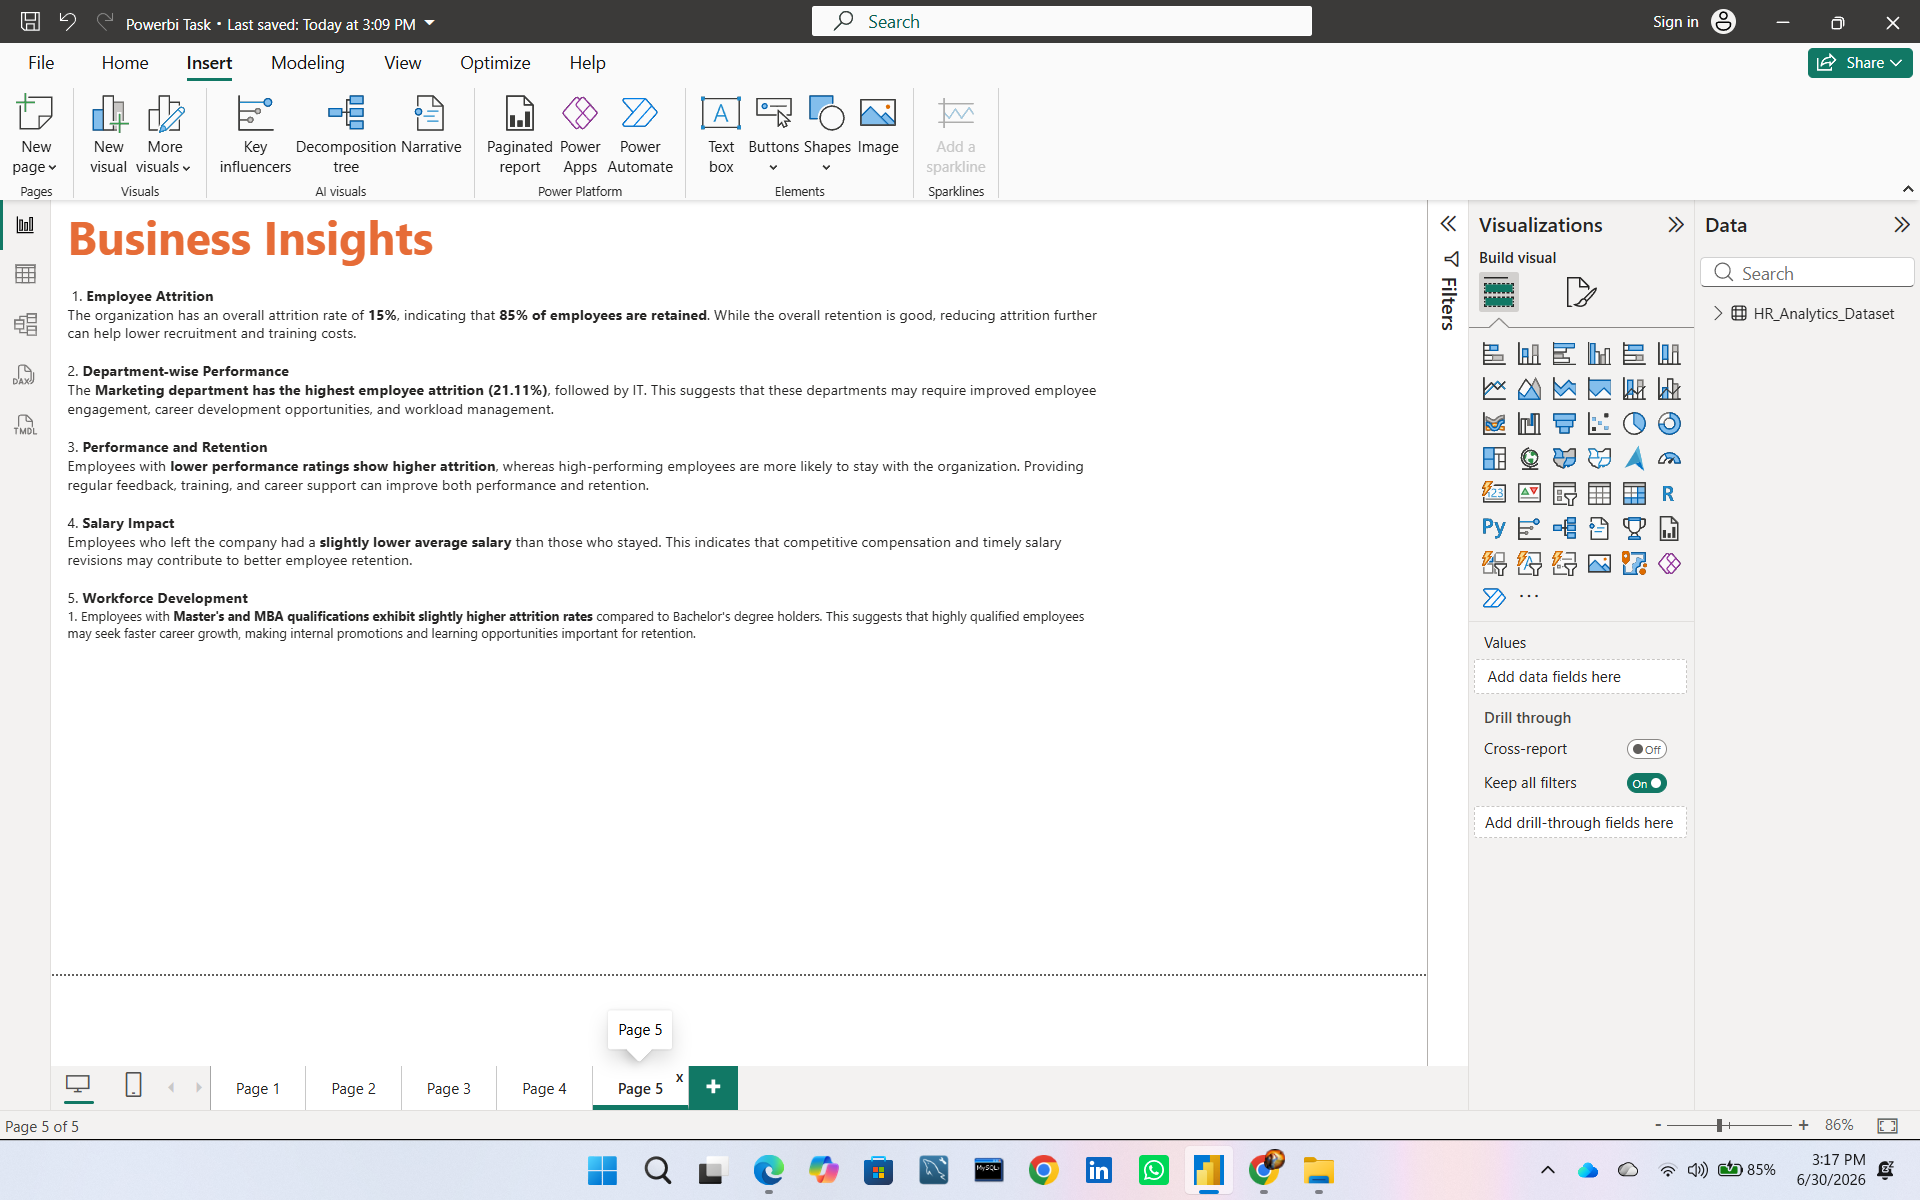

This screenshot's page, from the dashboard's own definition file:
{"tool":"powerbi","page":{"name":"Page 5","canvas":[1280,720],"ordinal":4},"visuals":[{"type":"textbox","box":[10.5,0,968.6,422.1],"z":0}]}

Visuals, with their boxes on the page's 1280x720 design canvas (x1, y1, x2, y2). These are canvas units, not pixel positions in the 1920x1200 screenshot, which may show the page scaled, cropped or inside an application window:
textbox: [x1=10, y1=0, x2=979, y2=422]
